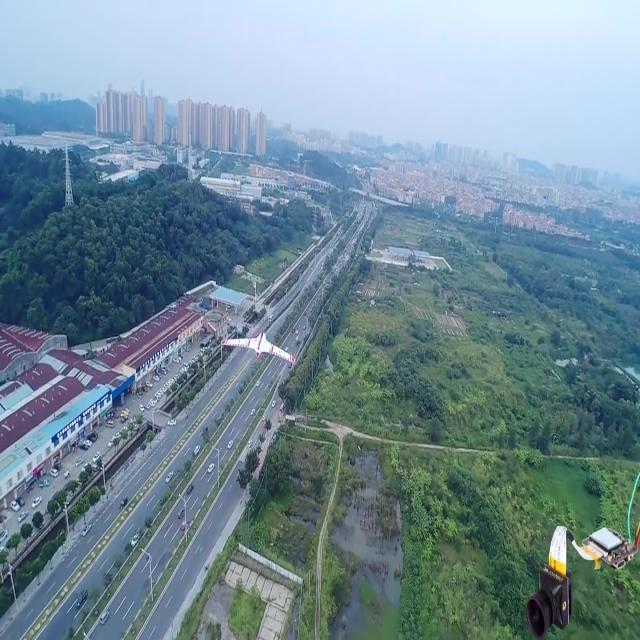iha: (256, 328, 261, 364)
